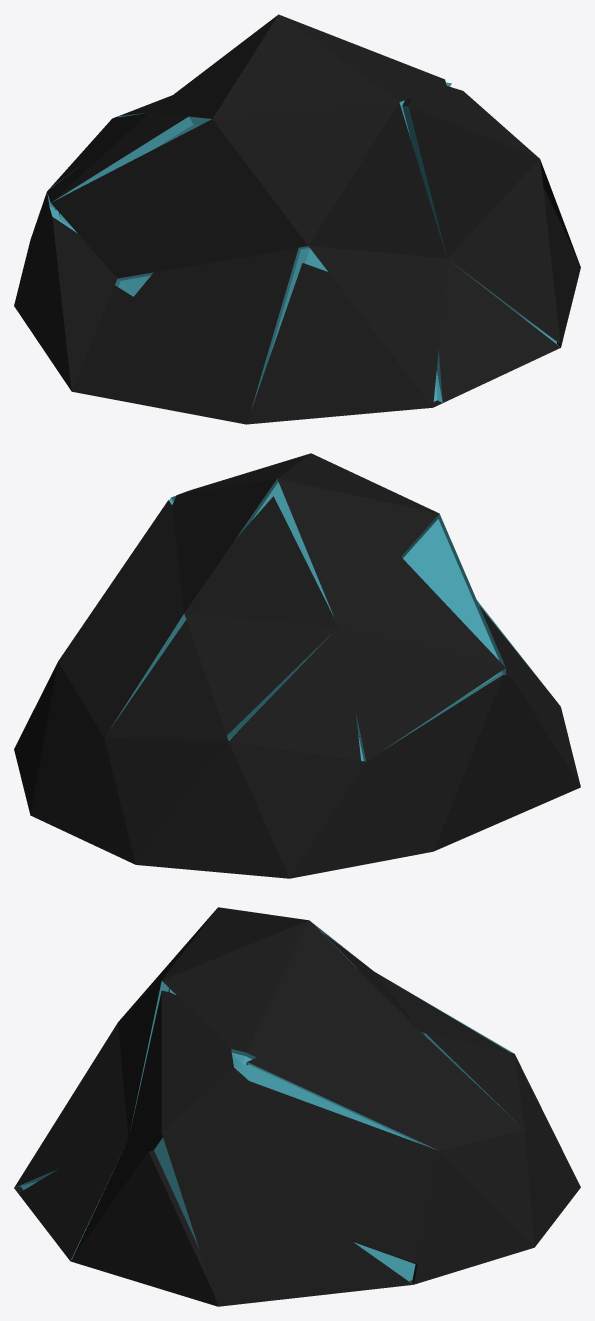
File: pedraazulneon.FBX
3 renders of one model, top to bottom at view 1: azimuth 30°, elevation 25°; view 2: azimuth 150°, elevation 25°; view 3: azimuth 270°, elevation 25°, orthographic. The views are drawn at different scales.
Parts seen in each view (by area): view 1: GeoSphere002; view 2: GeoSphere002; view 3: GeoSphere002.
Boxes of the visible parts, x1,y1,x2,y2 form: GeoSphere002: (14,14,580,424); GeoSphere002: (14,453,580,878); GeoSphere002: (14,907,580,1306).
Bounding box in the file's own units: 95.84 × 51.05 × 96.71.
